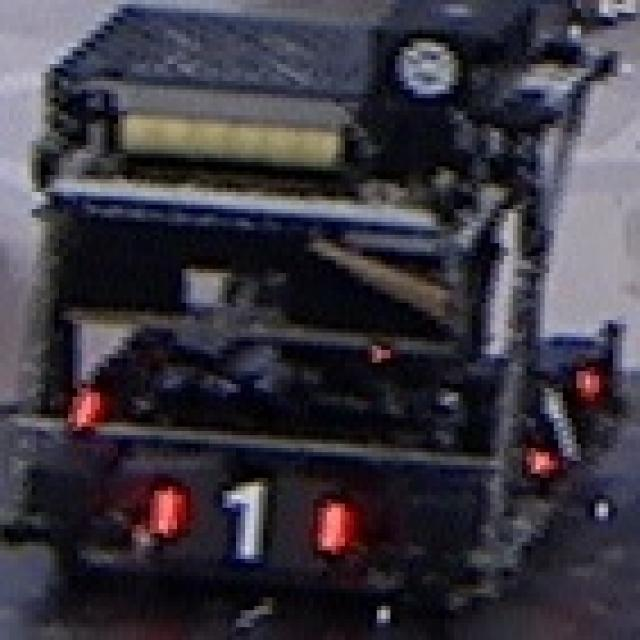R1: (145, 474, 350, 563)
